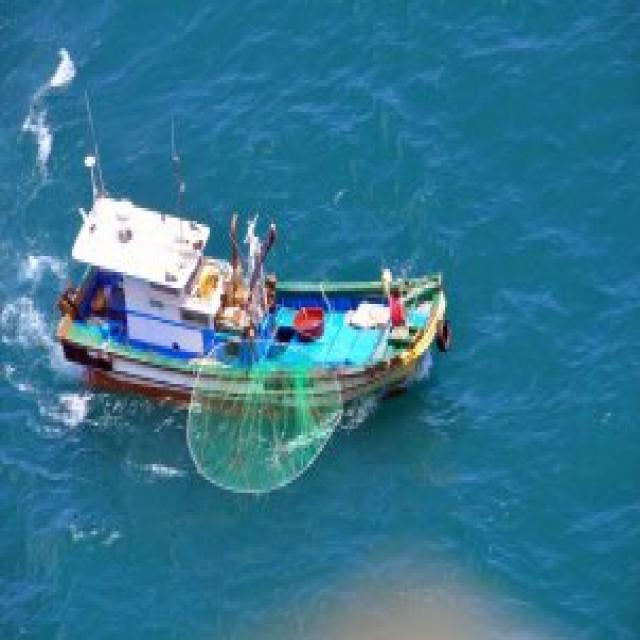Ship: (42, 46, 470, 433)
